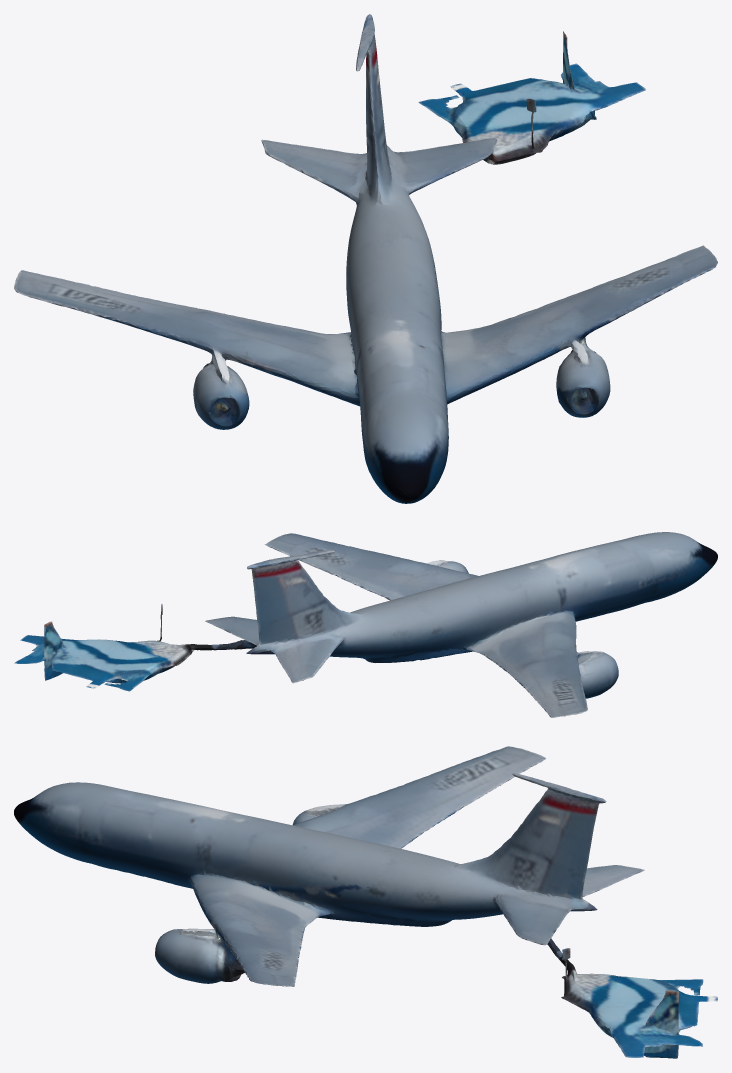
The model's file is KC-135_Stratotanker_AI_Rodin.glb.
The picture shows the model from 3 angles, top to bottom: view 1: azimuth 30°, elevation 25°; view 2: azimuth 150°, elevation 25°; view 3: azimuth 270°, elevation 25°; orthographic projection. The views are drawn at different scales.
Parts seen in each view (by area): view 1: model; view 2: model; view 3: model.
Part boxes in pixels (bbox=[...]): model: bbox=[14, 14, 717, 503]; model: bbox=[14, 532, 717, 717]; model: bbox=[14, 746, 717, 1058].
Bounding box in the file's own units: 1.86 × 0.5571 × 1.87.
Materials: 1 (1 with a texture image).
